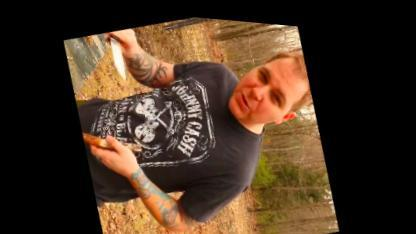knife: (96, 25, 140, 92)
